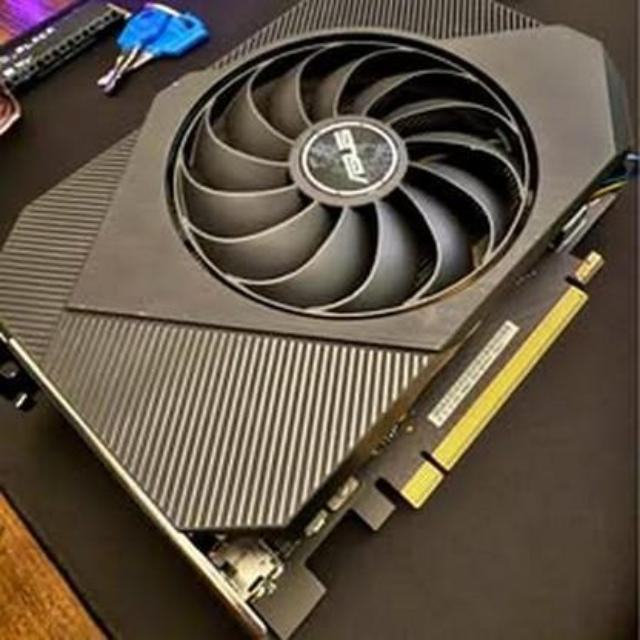GPU: (1, 0, 628, 640)
